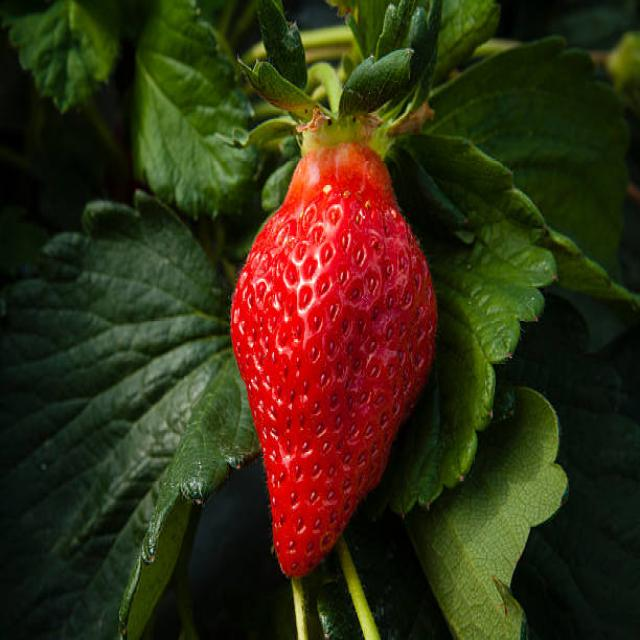Healthy Fruit: (232, 138, 437, 579)
